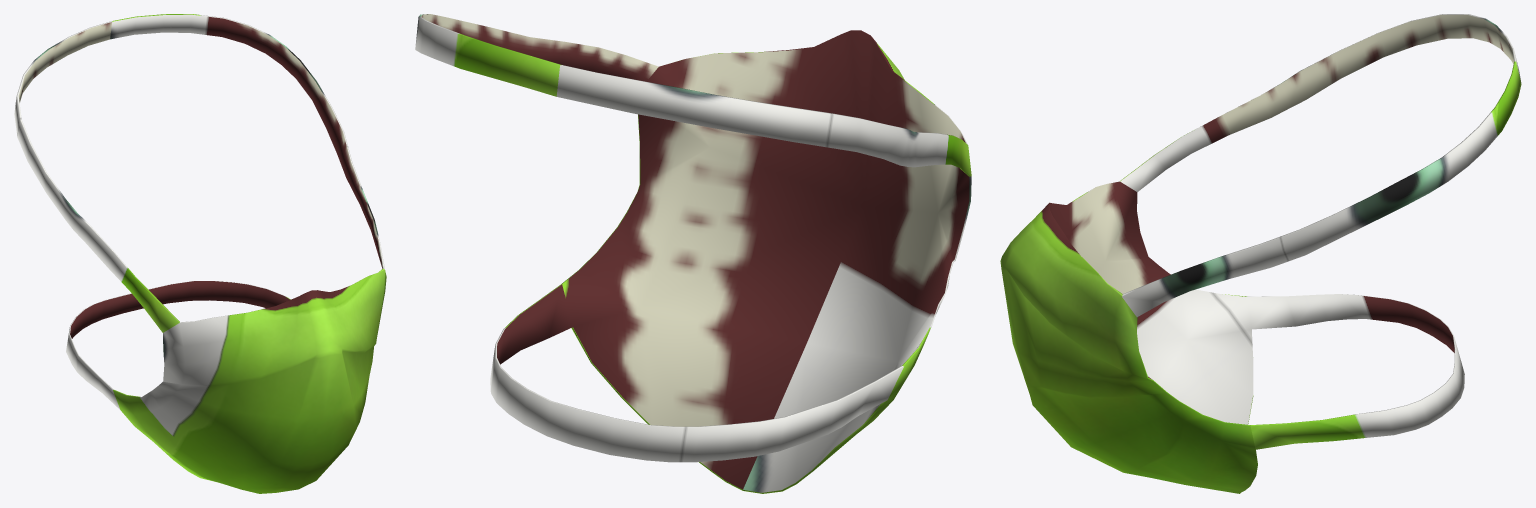
File: maske3.fbx
3 views of the same model, side by side, from view 1: azimuth 30°, elevation 25°; view 2: azimuth 150°, elevation 25°; view 3: azimuth 270°, elevation 25° (orthographic). The views are drawn at different scales.
Parts seen in each view (by area): view 1: Masks; view 2: Masks; view 3: Masks.
Boxes of the visible parts, left/top/right/bottom form: Masks: left=14, top=14, right=386, bottom=493; Masks: left=415, top=14, right=971, bottom=493; Masks: left=1000, top=14, right=1521, bottom=493.
Size of the model in its own units: 1595 by 1978 by 2164.
